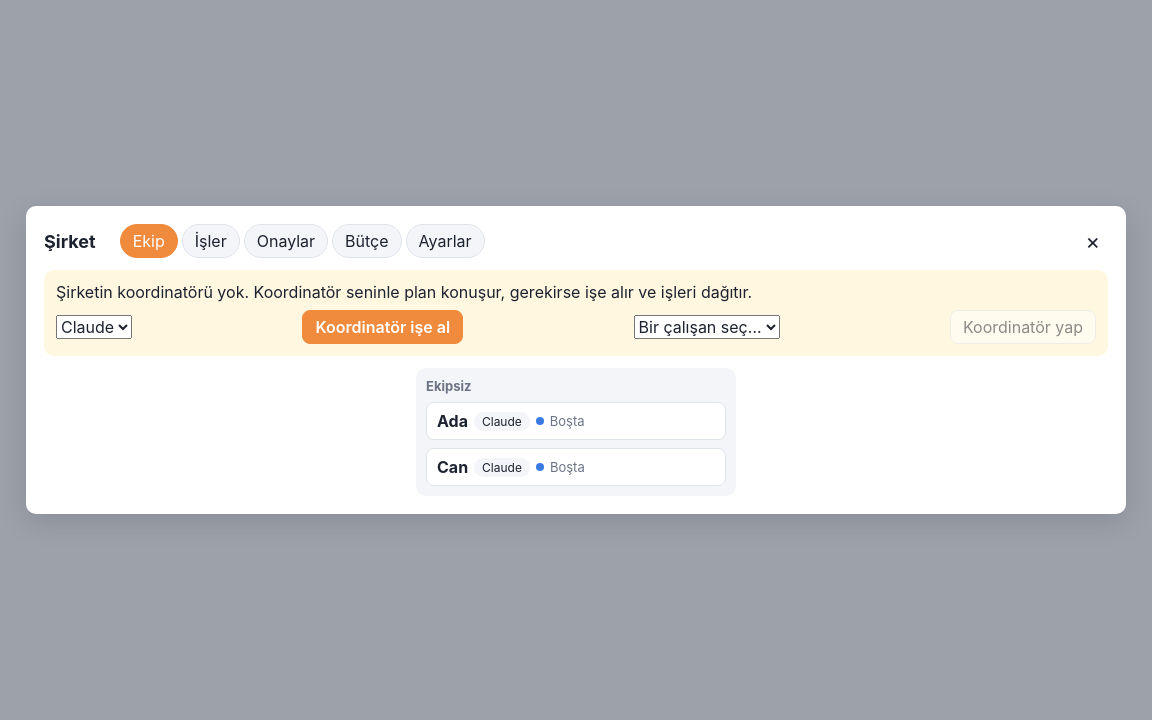
Scenario: CompanyView › has an İncelemede column with the reviewer and the round on the card
Click the tab "İşler" at (211, 241), box [182,224,240,258]
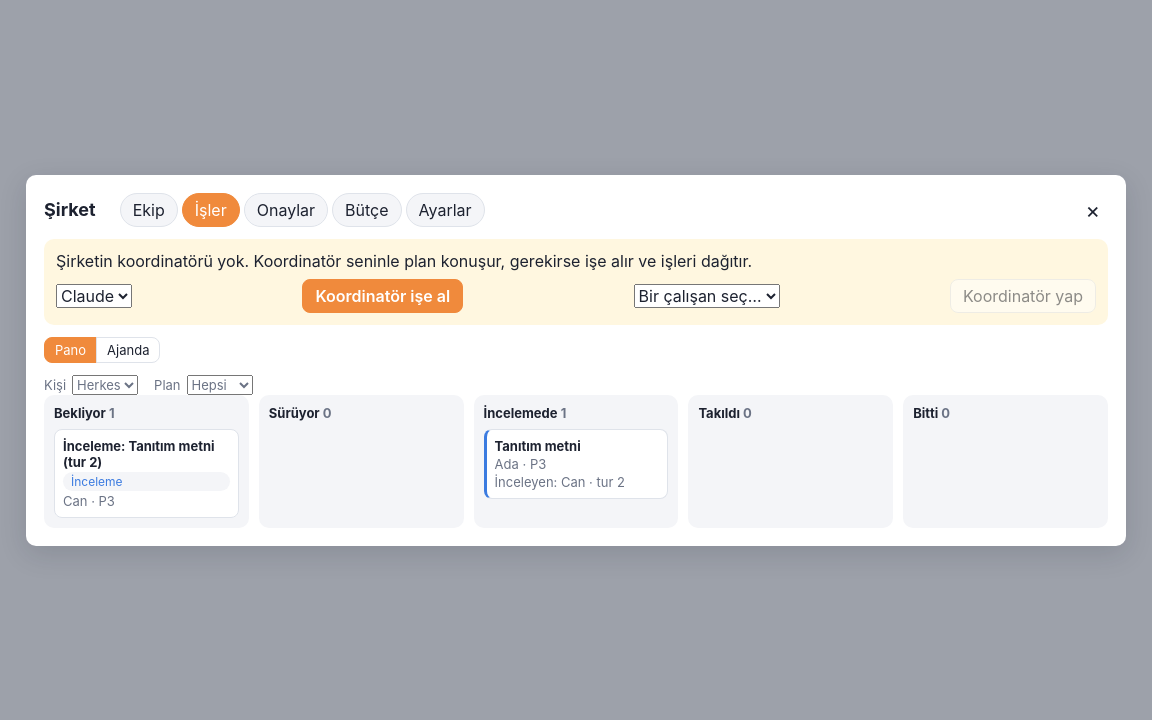
Expected: the text "Tanıtım metni" is shown, [495,438,581,454]
Expected: the element "İncelemede" shows "İnceleyen: Can", [474,394,678,528]
Expected: the element "İncelemede" shows "tur 2", [586,474,625,490]
